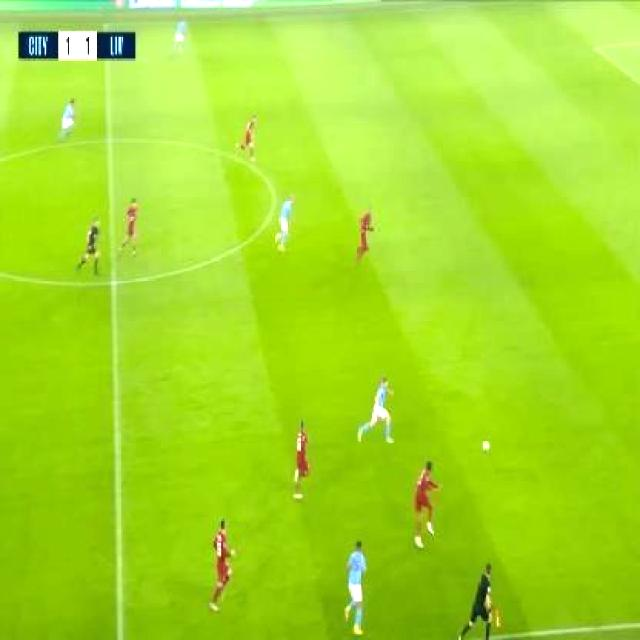bigarea_top_inner: (586, 36, 605, 58)
halfcircle_bottom: (98, 264, 125, 298)
halfcircle_top: (94, 123, 123, 155)
midline_top_intersection: (94, 18, 118, 32)
